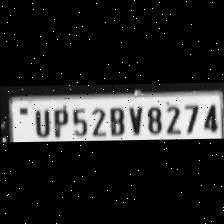2: (162, 102, 180, 134), (87, 105, 105, 136)
4: (198, 100, 218, 132)
5: (68, 105, 88, 136)
7: (180, 100, 198, 132)
8: (142, 104, 162, 136)
B: (106, 104, 126, 136)
P: (50, 105, 68, 138)
U: (30, 106, 50, 138)
V: (124, 103, 144, 136)
